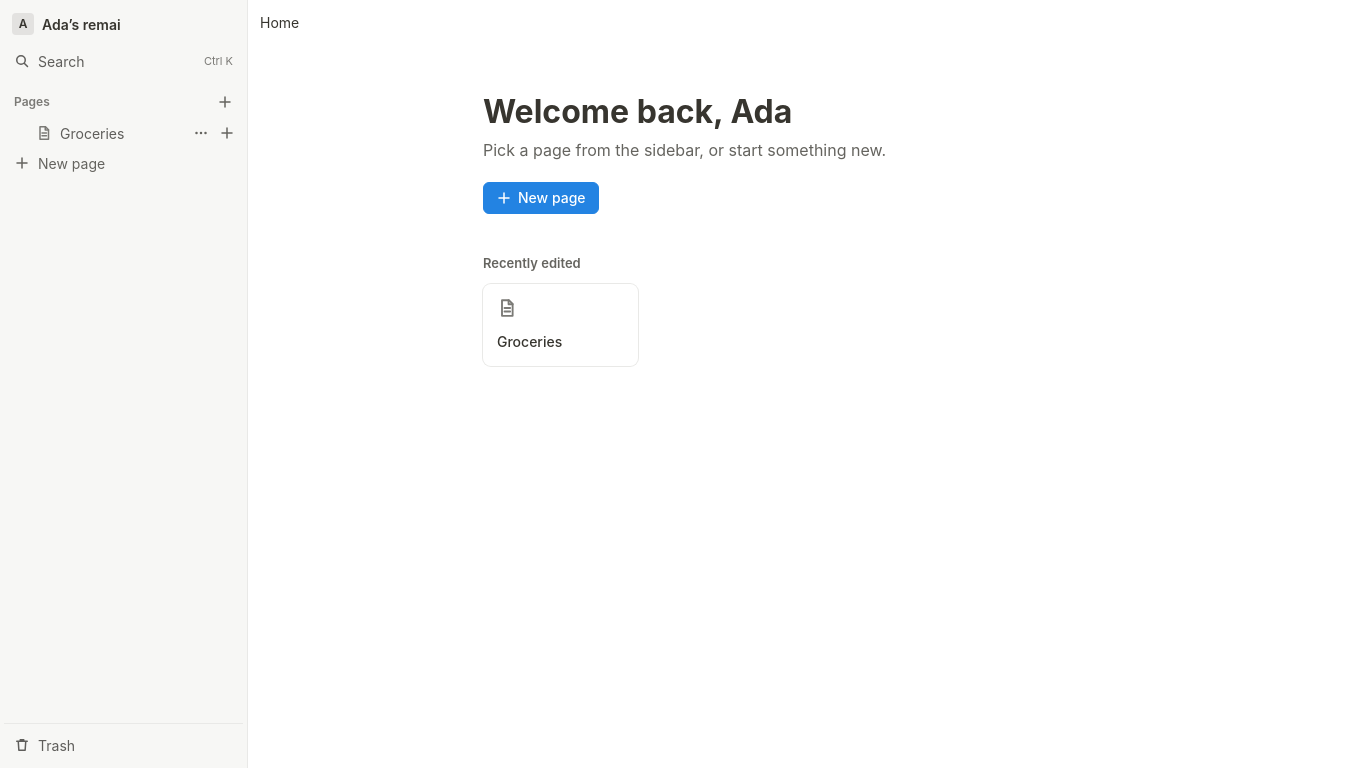
Test: Search from clients › shows a no-results message
This screenshot has width=1366, height=768.
Click the button "Search Ctrl K".
click(124, 61)  # box [4,46,243,76]
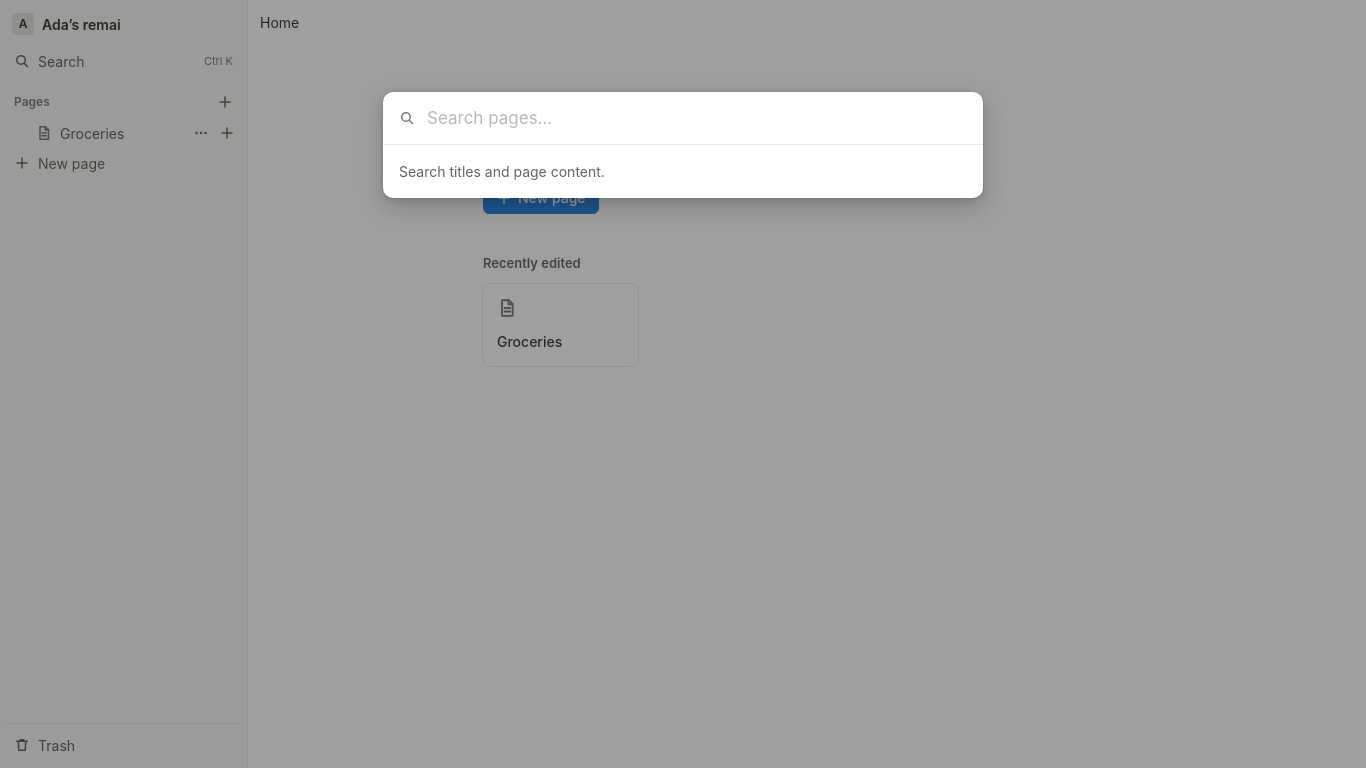
Type "100%" into the dropdown labelled "Search pages".
click(696, 118); type("100%")  # box [425,92,967,144]
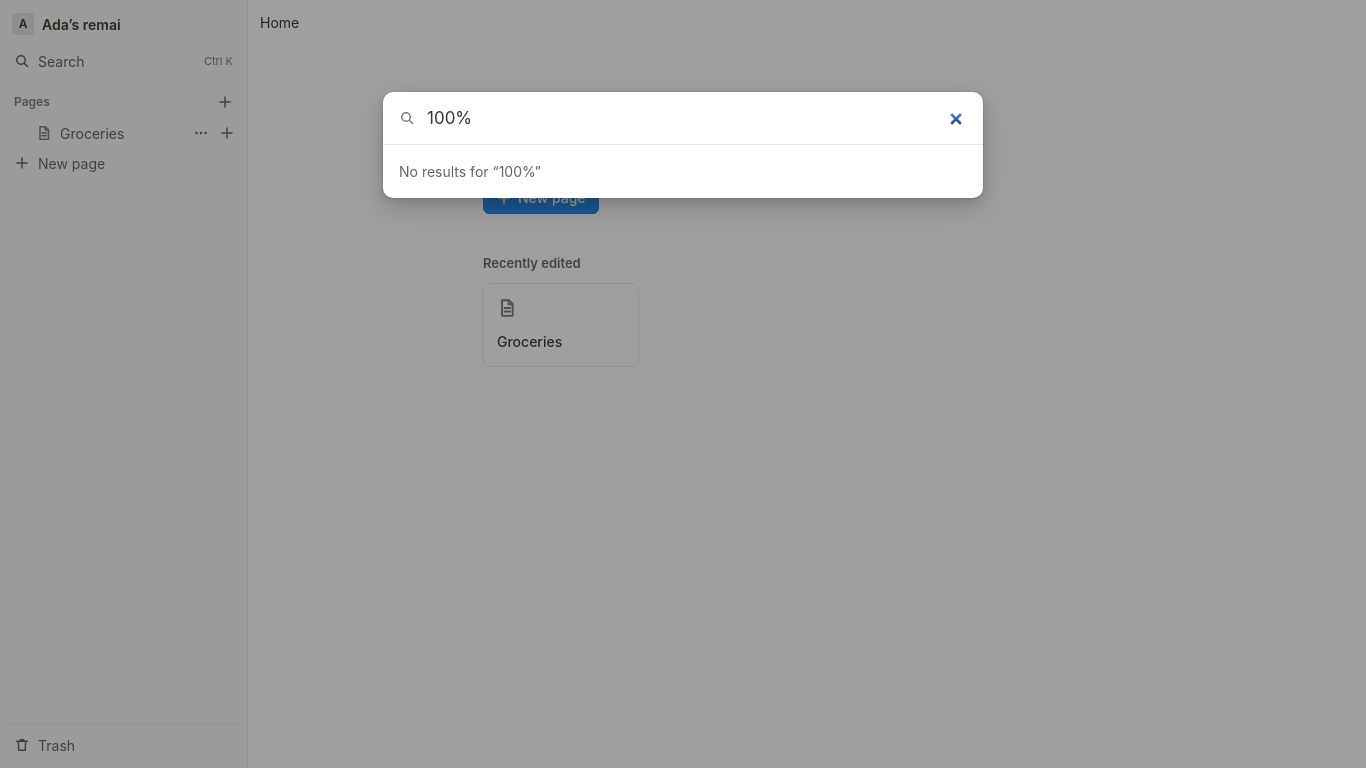
Expected: the text "No results for “100%”" is shown, [399,163,541,180]
